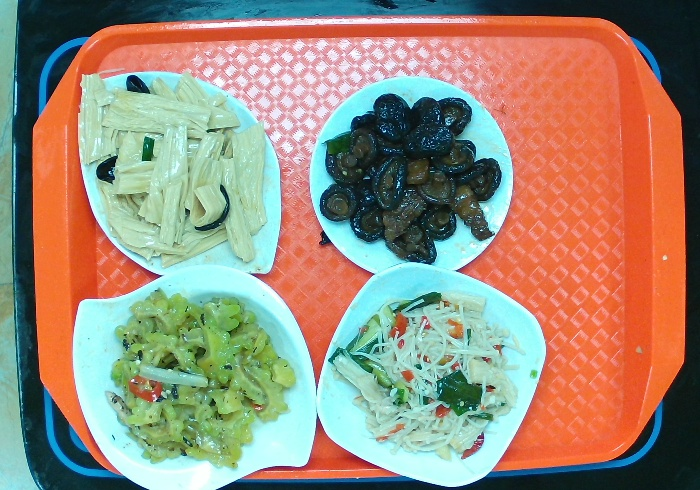RJxy-Da_Du_Pan: (76, 65, 294, 286)
RJxy-Si_Fang_Wan: (315, 259, 550, 490)
RJxy-Xiao_Yuan_Die: (306, 72, 519, 275)
